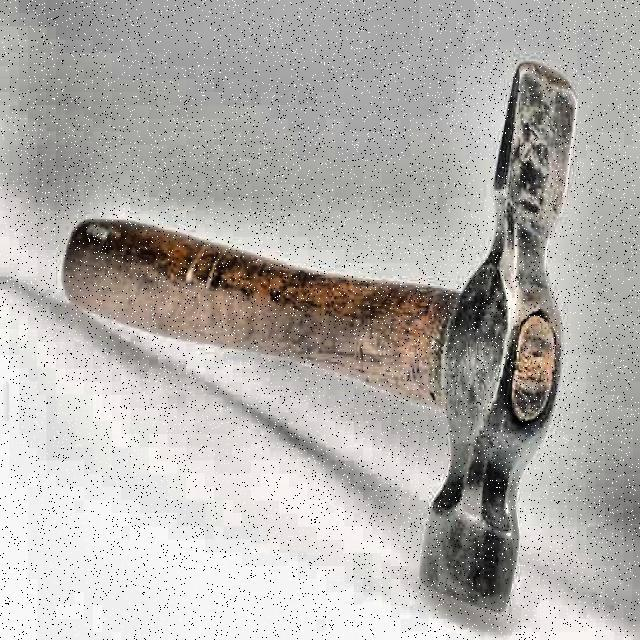hammer: (67, 57, 581, 614)
